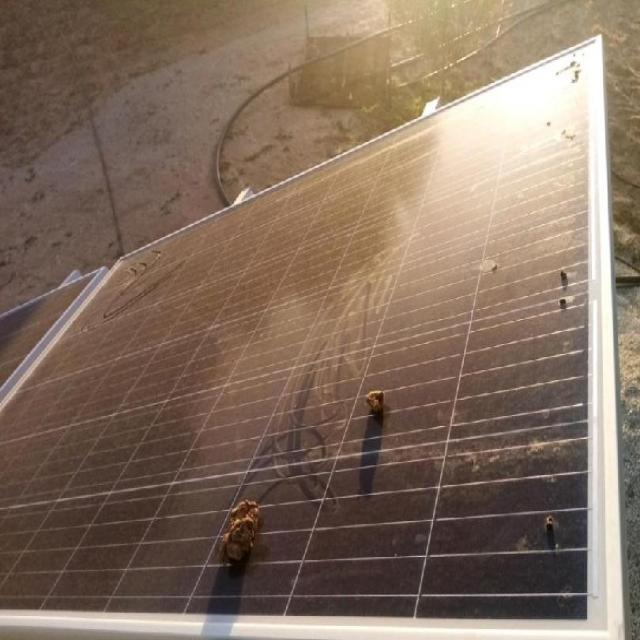faulty: (0, 35, 618, 630)
